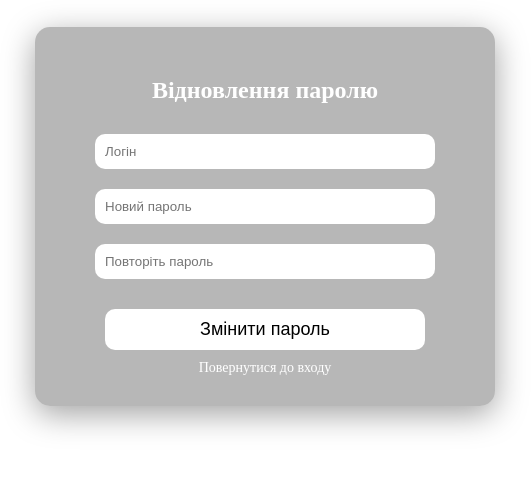
PasswordRecoveryBox › показує повідомлення про помилку, якщо паролі не співпадають
This screenshot has width=531, height=500.
In the field with placeholder "Логін": (265,151) [95,134,435,169], type "user123"
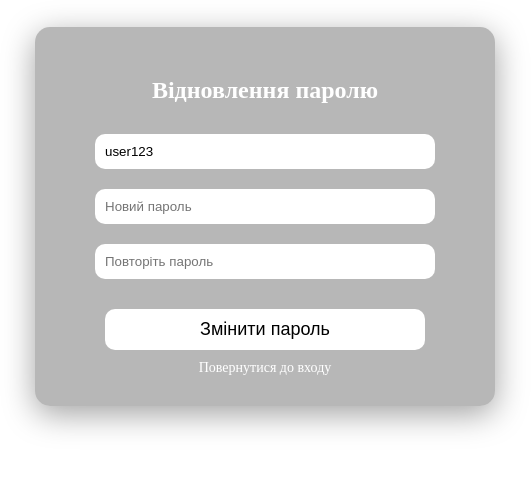
In the password field with placeholder "Новий пароль": (265,206) [95,189,435,224], type "password1"
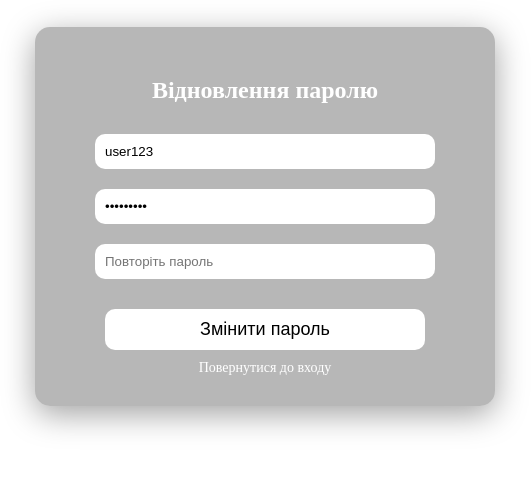
In the password field with placeholder "Повторіть пароль": (265,261) [95,244,435,279], type "password2"
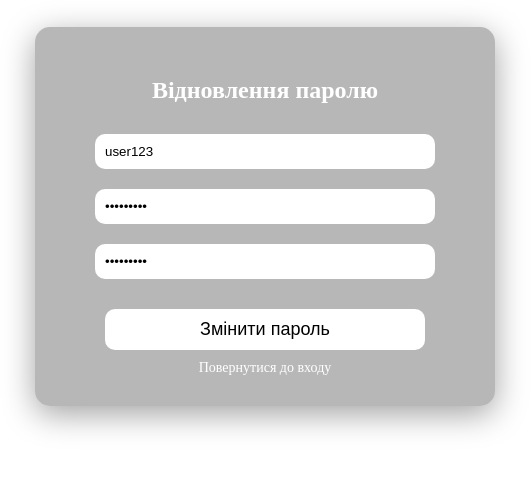
Click the button "Змінити пароль": (265,329) [105,309,425,350]
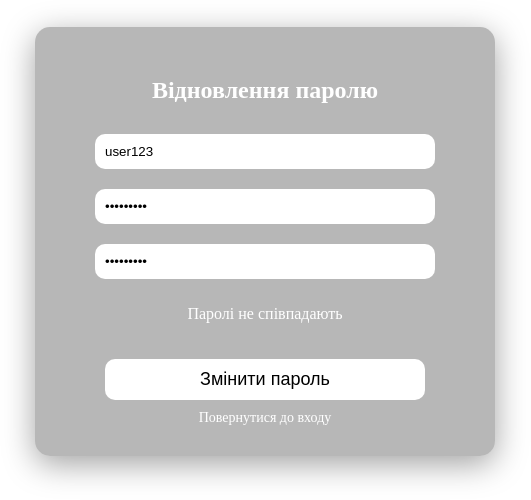
expect the text "Паролі не співпадають" is shown: met, box [187,305,342,322]
